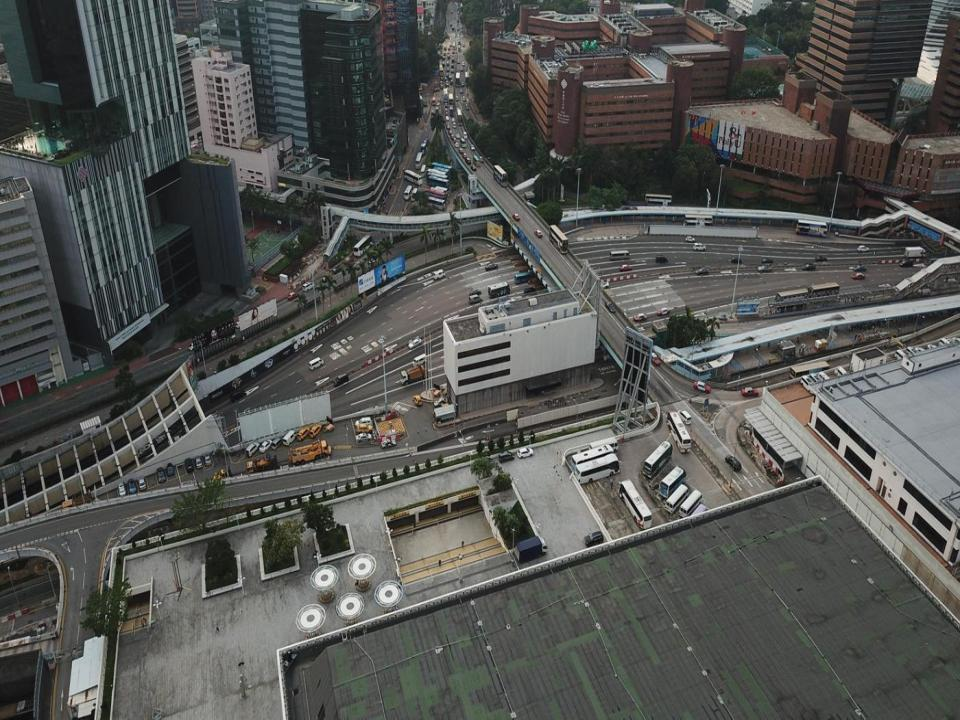bus: (618, 478, 652, 530), (574, 452, 622, 485), (571, 444, 616, 474), (642, 440, 672, 477), (666, 410, 690, 452), (789, 360, 830, 382), (659, 466, 686, 499), (773, 288, 808, 310), (806, 282, 839, 304), (683, 503, 708, 532), (678, 490, 702, 519), (665, 483, 688, 512), (796, 219, 828, 238), (549, 224, 568, 253), (683, 213, 712, 231), (589, 437, 619, 453), (430, 162, 453, 182), (353, 235, 373, 257), (426, 168, 448, 187), (645, 194, 672, 209), (422, 188, 446, 204), (488, 281, 510, 298), (426, 172, 448, 189), (427, 175, 449, 191), (421, 196, 446, 210), (431, 166, 449, 184), (493, 164, 507, 186), (404, 169, 422, 186), (426, 186, 446, 201), (686, 219, 704, 232), (514, 272, 533, 284), (433, 185, 447, 198), (610, 250, 628, 260), (420, 138, 430, 155), (403, 185, 413, 200), (415, 152, 422, 169), (410, 187, 418, 201), (456, 109, 463, 125), (472, 154, 480, 166), (448, 93, 454, 109), (454, 72, 460, 87), (420, 164, 426, 178), (412, 88, 422, 96), (465, 71, 470, 86), (443, 88, 448, 102), (439, 64, 444, 77), (445, 115, 450, 126), (460, 138, 466, 147), (460, 2, 464, 13), (463, 131, 468, 139), (457, 38, 461, 47), (449, 107, 453, 116), (432, 97, 435, 105), (458, 45, 461, 52), (452, 42, 455, 49)
car: (583, 531, 604, 546), (914, 345, 930, 361), (259, 439, 273, 453), (647, 351, 661, 365), (693, 381, 710, 392), (928, 344, 941, 358), (407, 337, 422, 349), (355, 432, 372, 442), (517, 448, 534, 458), (740, 386, 758, 395), (380, 439, 396, 448), (952, 336, 960, 354), (633, 312, 647, 322), (434, 397, 449, 406), (189, 340, 202, 350), (157, 466, 165, 482), (203, 453, 212, 467), (605, 300, 615, 312), (137, 477, 146, 490), (194, 456, 203, 469), (614, 197, 627, 206), (851, 272, 865, 280), (485, 263, 498, 271), (235, 319, 246, 328), (656, 307, 670, 314), (167, 463, 174, 476), (815, 256, 828, 263), (758, 264, 771, 271), (852, 265, 867, 271), (287, 292, 298, 300), (321, 274, 332, 282), (802, 264, 814, 271), (761, 258, 773, 265), (696, 267, 708, 274), (619, 264, 631, 271), (469, 289, 481, 296), (858, 245, 869, 252), (343, 257, 354, 264), (333, 266, 342, 274), (512, 213, 520, 221), (534, 230, 542, 238), (470, 163, 478, 171), (685, 236, 695, 242), (382, 93, 389, 101), (732, 257, 741, 263), (391, 118, 400, 123), (392, 122, 400, 127), (479, 155, 484, 162), (462, 153, 467, 159), (458, 148, 463, 154), (470, 143, 474, 150), (450, 133, 454, 140), (454, 141, 458, 148), (452, 138, 457, 143), (466, 104, 470, 110), (456, 133, 460, 138), (449, 130, 453, 135), (451, 118, 455, 122), (443, 51, 446, 56), (452, 49, 455, 54), (446, 72, 449, 77), (447, 124, 450, 129), (462, 43, 465, 47), (447, 54, 450, 58), (460, 67, 463, 71), (442, 56, 446, 59), (442, 61, 444, 67), (450, 69, 454, 72), (462, 81, 464, 87), (456, 96, 459, 100), (463, 50, 465, 55), (462, 60, 464, 65), (451, 62, 453, 67), (447, 67, 449, 72), (460, 88, 462, 93), (460, 25, 463, 28), (450, 9, 452, 13), (456, 18, 458, 22), (450, 22, 452, 26), (460, 29, 462, 33), (458, 59, 460, 63), (447, 61, 449, 65), (456, 27, 458, 30), (449, 43, 451, 46), (452, 58, 454, 61), (461, 35, 463, 37)
truck: (288, 437, 331, 464), (514, 535, 548, 561), (246, 451, 278, 478), (400, 364, 428, 386), (903, 246, 926, 259), (433, 403, 449, 413)
van: (938, 337, 957, 357), (904, 346, 922, 366), (894, 349, 913, 367), (282, 428, 300, 446), (800, 375, 817, 393), (808, 373, 824, 391), (725, 454, 741, 471), (834, 365, 850, 382), (244, 441, 260, 457), (946, 337, 960, 355), (308, 423, 322, 438), (413, 353, 427, 368), (817, 372, 832, 386), (296, 427, 312, 440), (230, 389, 246, 402), (308, 357, 324, 370), (498, 450, 514, 463), (334, 372, 349, 385), (355, 417, 372, 428), (356, 423, 373, 434), (271, 436, 284, 449), (477, 457, 493, 467), (432, 268, 446, 279), (128, 478, 137, 493), (469, 294, 482, 304), (184, 457, 193, 471), (118, 482, 126, 497), (693, 242, 706, 251), (524, 288, 537, 297), (413, 394, 422, 406), (302, 282, 315, 290), (900, 260, 912, 268), (655, 255, 668, 262), (368, 259, 379, 267), (465, 158, 471, 165), (380, 97, 389, 101), (452, 121, 456, 128), (434, 88, 440, 92), (440, 82, 443, 89), (462, 95, 465, 101), (448, 76, 451, 80), (450, 80, 452, 84), (440, 77, 442, 81), (452, 26, 454, 29), (444, 46, 446, 49), (448, 47, 450, 50)
